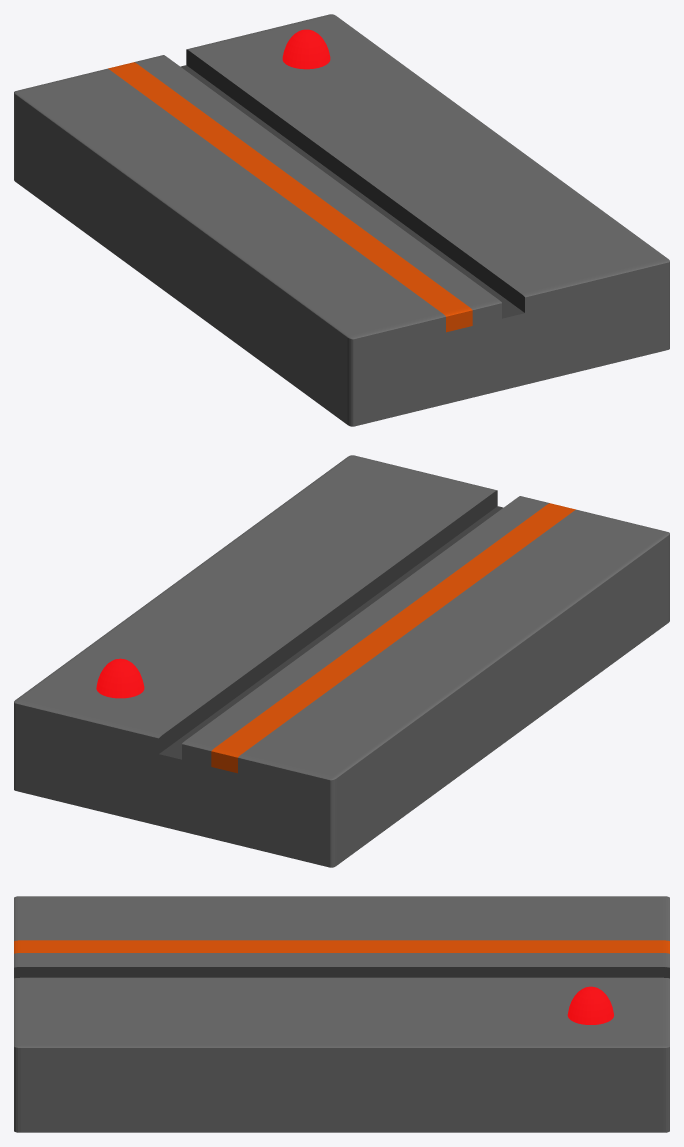
File: OrangeKeyCardScannerRL.glb
3 renders of one model, top to bottom at view 1: azimuth 30°, elevation 25°; view 2: azimuth 150°, elevation 25°; view 3: azimuth 270°, elevation 25°, orthographic. The views are drawn at different scales.
Parts seen in each view (by area): view 1: Base, Light; view 2: Base, Light; view 3: Base, Light.
Boxes of the visible parts, bbox=[...] form: Base: bbox=[14, 14, 669, 426]; Light: bbox=[282, 29, 330, 69]; Base: bbox=[14, 455, 669, 867]; Light: bbox=[96, 658, 144, 698]; Base: bbox=[14, 896, 669, 1132]; Light: bbox=[567, 986, 613, 1024].
Size of the model in its own units: 0.055 by 0.0192 by 0.1006.
